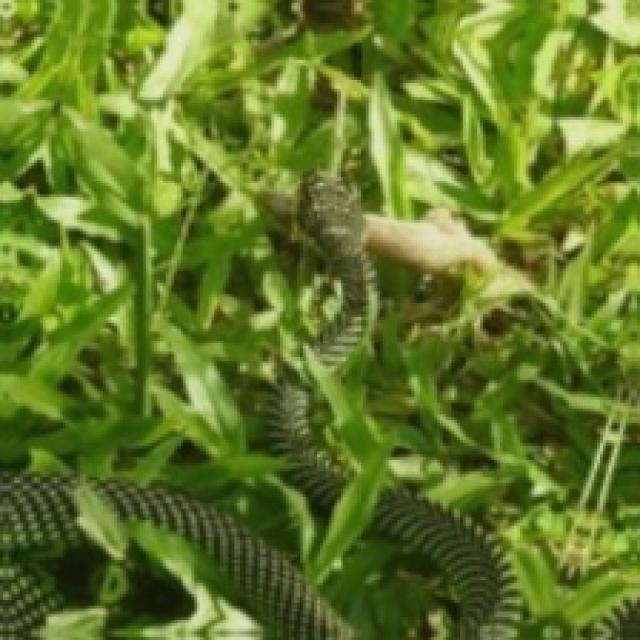paradise tree snake: (95, 482, 355, 640), (375, 489, 520, 640), (298, 172, 376, 367), (0, 475, 86, 639), (268, 382, 346, 520)
